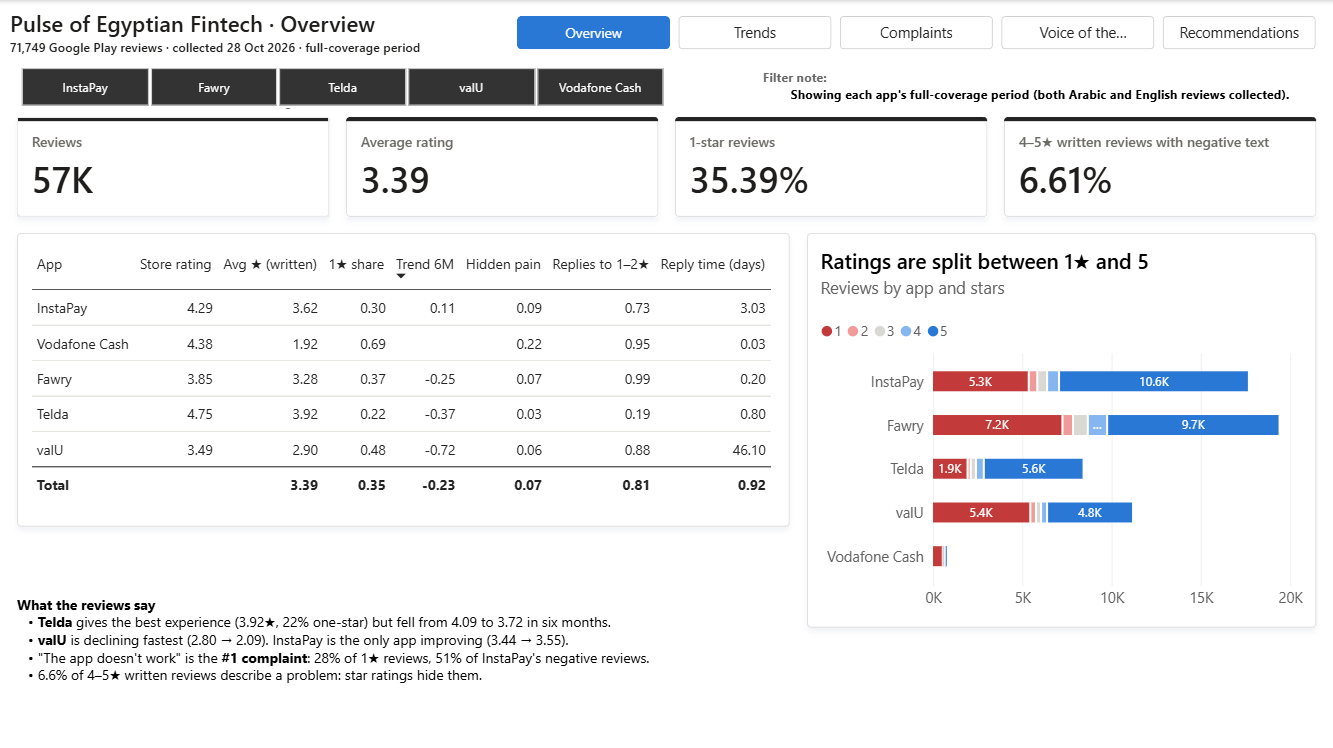

The dashboard page shown, as its layout file describes it:
{"tool":"powerbi","page":{"name":"Overview ","canvas":[1280,720],"ordinal":0},"visuals":[{"type":"textbox","box":[10,7.8,446.7,47.8],"z":0},{"type":"pageNavigator","box":[496.7,15.6,767.8,32.2],"z":1000},{"type":"textbox","box":[732.2,64.4,532.2,40],"z":2000},{"type":"cardVisual","fields":{"Data":["_Measures (2).Hidden Pain %"]},"box":[964,112,300,96],"z":3000},{"type":"cardVisual","fields":{"Data":["_Measures (2).Avg Stars"]},"box":[332,112,300,96],"z":4000},{"type":"cardVisual","fields":{"Data":["_Measures (2).Reviews"]},"box":[16,112,300,96],"z":5000},{"type":"cardVisual","fields":{"Data":["_Measures (2).% 1-Star"]},"box":[648,112,300,96],"z":6000},{"type":"tableEx","fields":{"Values":["dim_app.app","_Measures (2).Store Rating","_Measures (2).Avg Stars","_Measures (2).% 1-Star","_Measures (2).Trend (Last 6M vs Prev 6M)","_Measures (2).Hidden Pain %","_Measures (2).Reply Rate (Negative)","_Measures (2).Median Reply Days"]},"box":[16.7,223.3,742.2,282.2],"z":7000},{"type":"barChart","title":"Ratings are split between 1★ and 5","fields":{"Category":["dim_app.app"],"Series":["fact_reviews.stars"],"Y":["_Measures (2).Reviews"]},"box":[774.4,223.3,488.9,378.9],"z":8000},{"type":"textbox","box":[16.2,571.2,767.5,115],"z":9000},{"type":"slicer","fields":{"Values":["dim_app.app"]},"box":[0,63.8,656.2,40],"z":10000}]}

Visuals, with their boxes in screenshot pixels (x1, y1, x2, y2), scaled from the page's 1280x720 canvas onto the 1333x748 screenshot:
textbox: {"left": 10, "top": 8, "right": 476, "bottom": 58}
pageNavigator: {"left": 517, "top": 16, "right": 1317, "bottom": 50}
textbox: {"left": 763, "top": 67, "right": 1317, "bottom": 108}
cardVisual - _Measures (2).Hidden Pain %: {"left": 1004, "top": 116, "right": 1316, "bottom": 216}
cardVisual - _Measures (2).Avg Stars: {"left": 346, "top": 116, "right": 658, "bottom": 216}
cardVisual - _Measures (2).Reviews: {"left": 17, "top": 116, "right": 329, "bottom": 216}
cardVisual - _Measures (2).% 1-Star: {"left": 675, "top": 116, "right": 987, "bottom": 216}
tableEx - dim_app.app x _Measures (2).Store Rating: {"left": 17, "top": 232, "right": 790, "bottom": 525}
"Ratings are split between 1★ and 5" barChart: {"left": 806, "top": 232, "right": 1316, "bottom": 626}
textbox: {"left": 17, "top": 593, "right": 816, "bottom": 713}
slicer - dim_app.app: {"left": 0, "top": 66, "right": 683, "bottom": 108}
